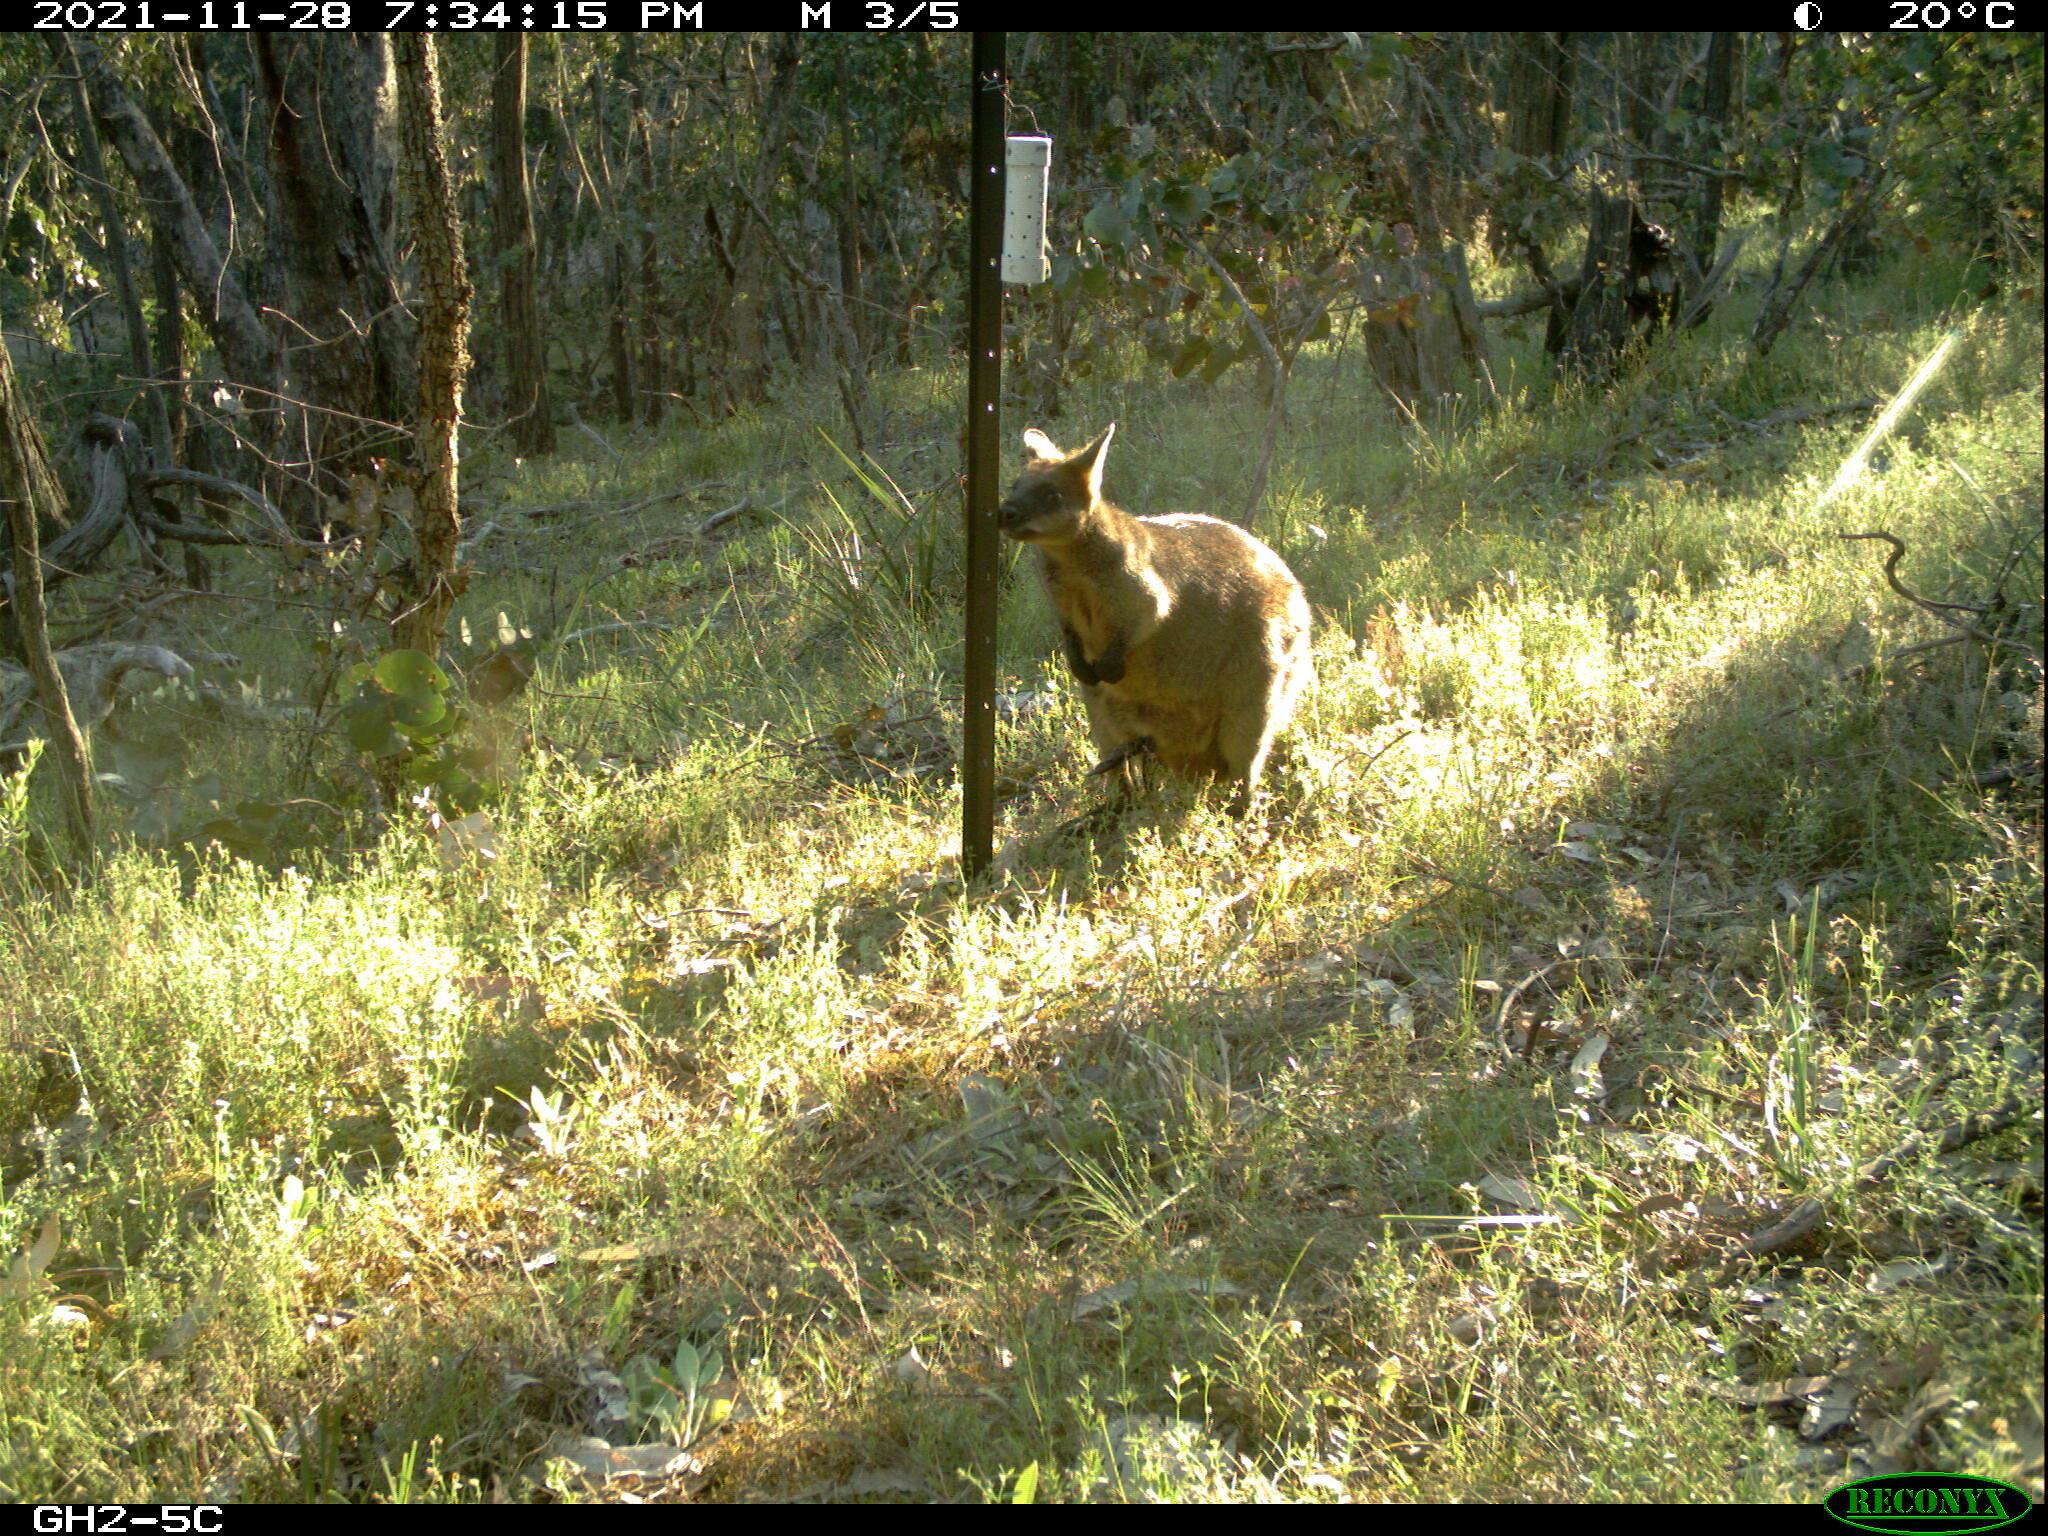Swamp wallaby: (998, 425, 1368, 837)
